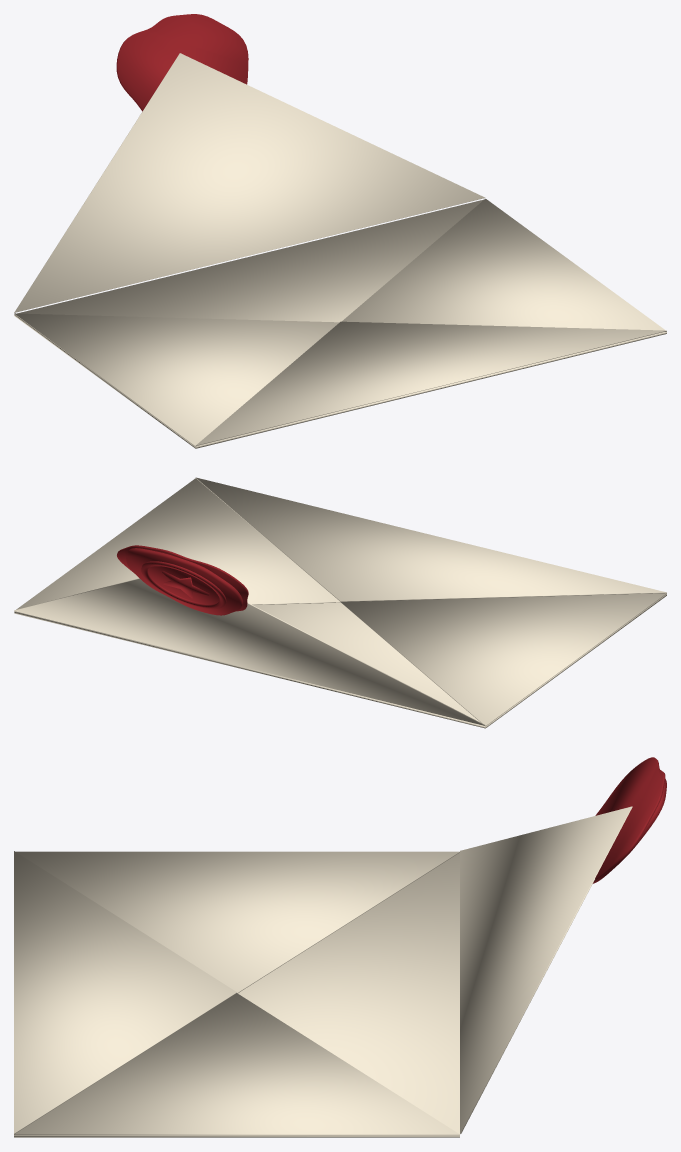
Rendered from envelope_close.glb.
The picture shows the model from 3 angles, top to bottom: view 1: azimuth 30°, elevation 25°; view 2: azimuth 150°, elevation 25°; view 3: azimuth 270°, elevation 25°; orthographic projection. The views are drawn at different scales.
Parts seen in each view (by area): view 1: Env_FlapTop, Env_Body, Env_FlapBottom, Env_FlapLeft, Env_FlapRight, Wax_Puddle; view 2: Env_FlapBottom, Env_FlapLeft, Env_FlapTop, Env_FlapRight, Env_Body, Wax_Puddle, Wax_Disc; view 3: Env_Body, Env_FlapRight, Env_FlapLeft, Env_FlapBottom, Env_FlapTop, Wax_Puddle.
Boxes of the visible parts, left/top/right/bottom form: Env_FlapTop: left=14, top=53, right=485, bottom=312; Env_Body: left=14, top=199, right=666, bottom=448; Env_FlapBottom: left=195, top=321, right=666, bottom=445; Env_FlapLeft: left=14, top=313, right=339, bottom=446; Env_FlapRight: left=342, top=198, right=666, bottom=331; Wax_Puddle: left=116, top=14, right=248, bottom=111; Env_FlapBottom: left=195, top=477, right=666, bottom=601; Env_FlapLeft: left=340, top=593, right=666, bottom=726; Env_FlapTop: left=14, top=578, right=485, bottom=725; Env_FlapRight: left=14, top=478, right=340, bottom=611; Env_Body: left=14, top=594, right=666, bottom=728; Wax_Puddle: left=117, top=545, right=248, bottom=615; Wax_Disc: left=126, top=548, right=242, bottom=615; Env_Body: left=14, top=853, right=459, bottom=1137; Env_FlapRight: left=14, top=993, right=459, bottom=1135; Env_FlapLeft: left=16, top=851, right=459, bottom=993; Env_FlapBottom: left=14, top=851, right=236, bottom=1133; Env_FlapTop: left=460, top=806, right=632, bottom=1133; Wax_Puddle: left=593, top=757, right=665, bottom=882.
Size of the model in its own units: 3 by 1.1 by 2.93.
